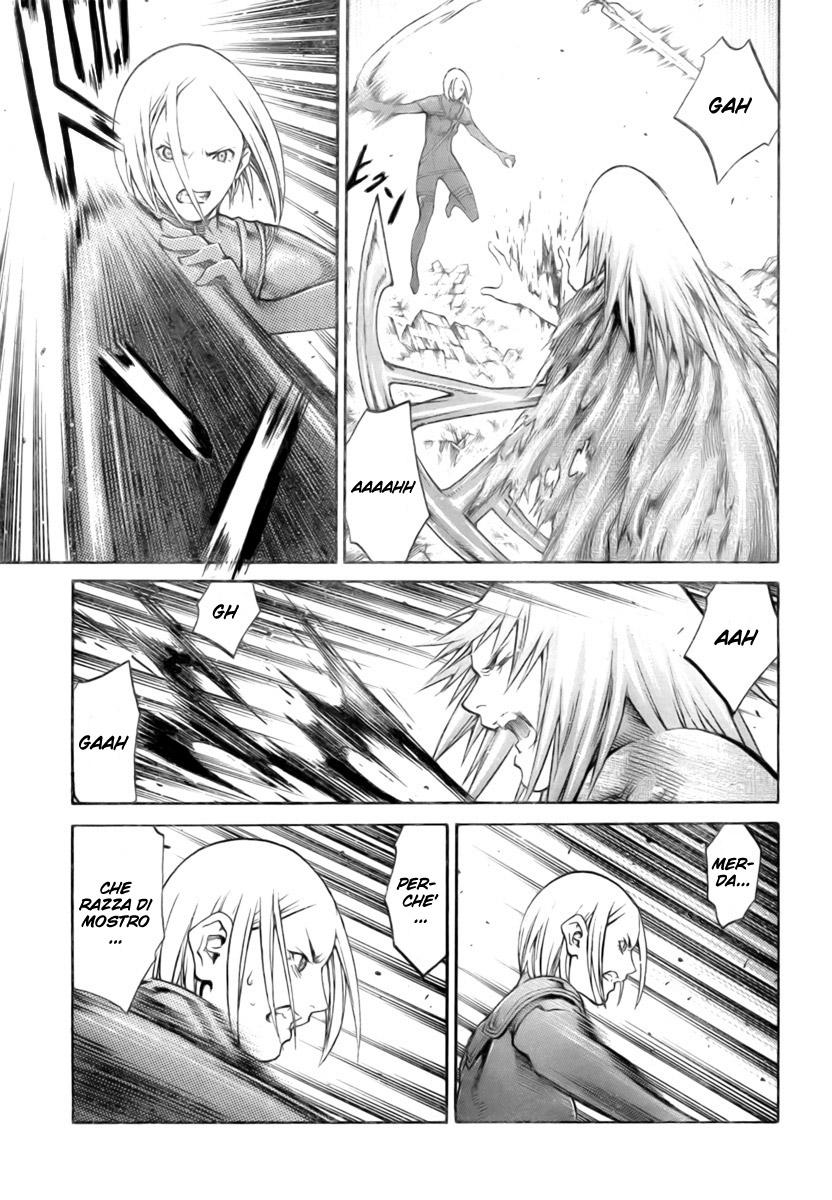Baloon: (71, 580, 775, 805), (73, 829, 445, 1127), (458, 823, 776, 1122), (73, 831, 165, 1014), (333, 403, 433, 563), (676, 33, 780, 183), (676, 582, 787, 713), (73, 654, 140, 803), (382, 822, 444, 976), (704, 825, 755, 933), (195, 582, 256, 662)
Vignetta: (345, 1, 773, 562), (1, 1, 340, 567)
